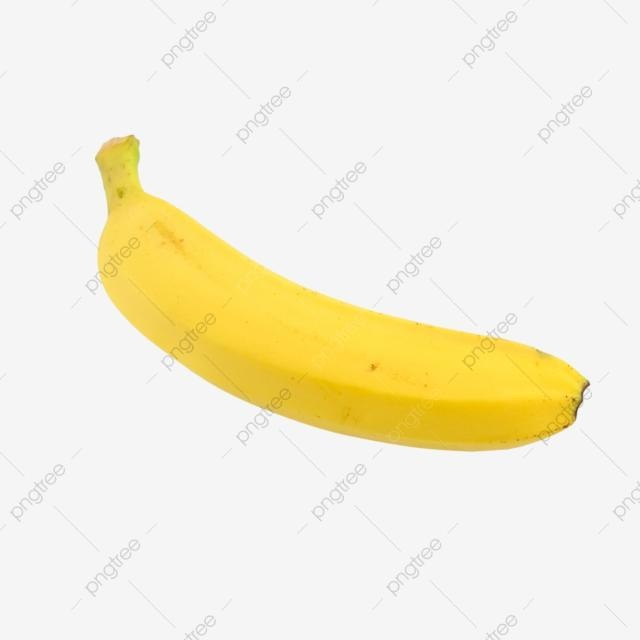agrume: (89, 127, 591, 455)
